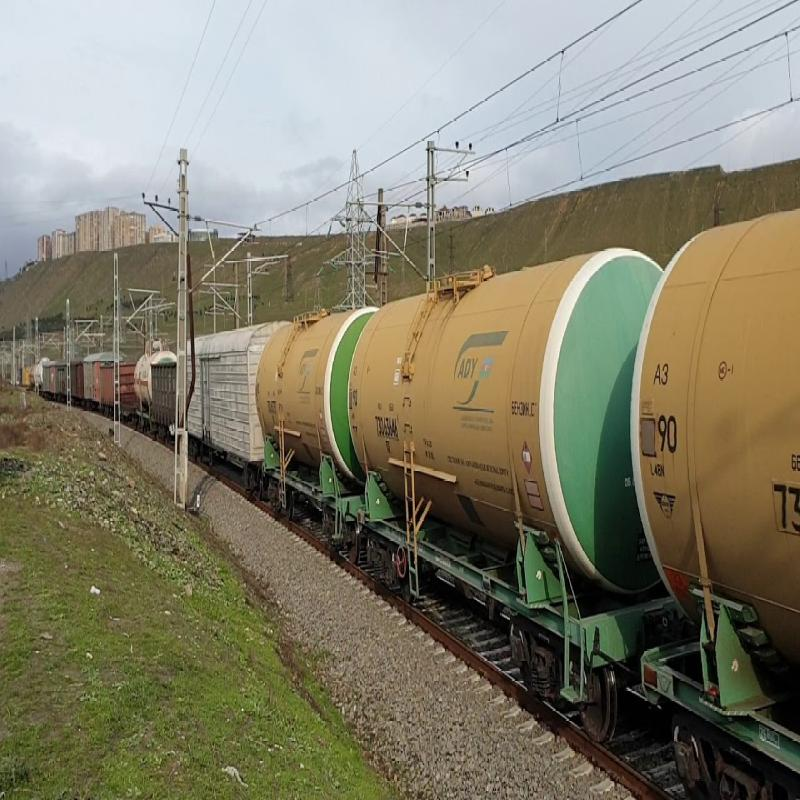train: (341, 264, 692, 692), (249, 293, 380, 558), (176, 306, 207, 352), (704, 712, 708, 724)
